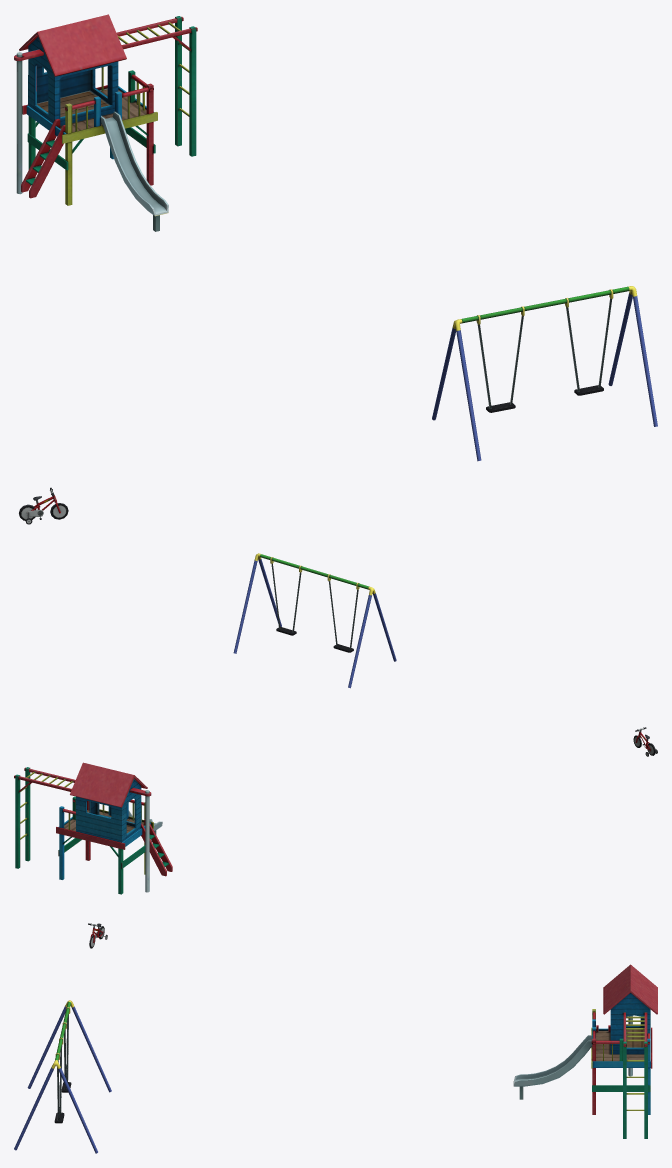
Rendered from Props_1_Playground_COMBO.fbx.
3 views of the same model, one above another, from view 1: azimuth 30°, elevation 25°; view 2: azimuth 150°, elevation 25°; view 3: azimuth 270°, elevation 25° (orthographic). The views are drawn at different scales.
Parts seen in each view (by area): view 1: Sun_0019_Kids_Bicycle; view 2: Sun_0019_Kids_Bicycle; view 3: Sun_0019_Kids_Bicycle.
Part boxes in pixels (x1,y1,x2,y2): Sun_0019_Kids_Bicycle: (14,14,657,524); Sun_0019_Kids_Bicycle: (14,553,657,894); Sun_0019_Kids_Bicycle: (14,923,657,1153).
Size of the model in its own units: 13.99 by 3.58 by 17.68.
